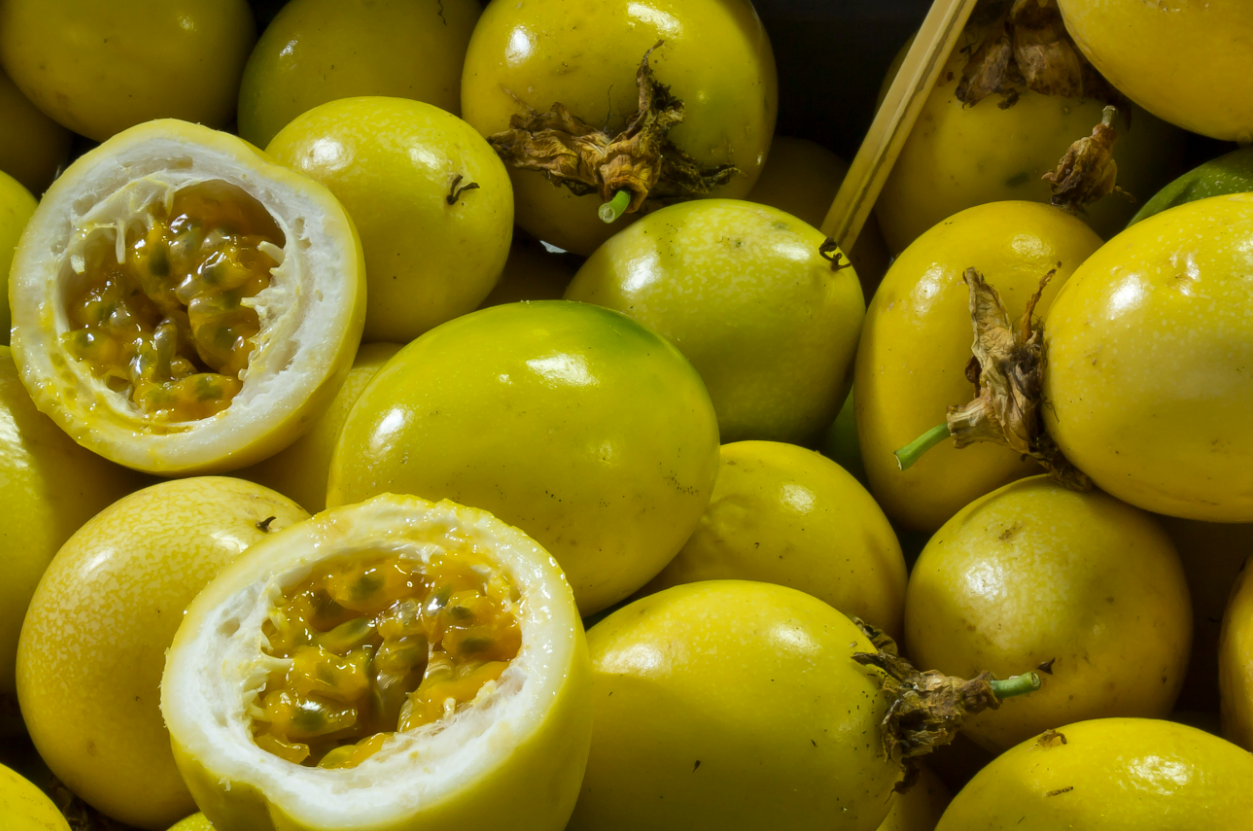maracuya: (317, 284, 728, 619), (554, 570, 948, 831), (897, 455, 1191, 746), (456, 1, 784, 252), (553, 195, 871, 453)
